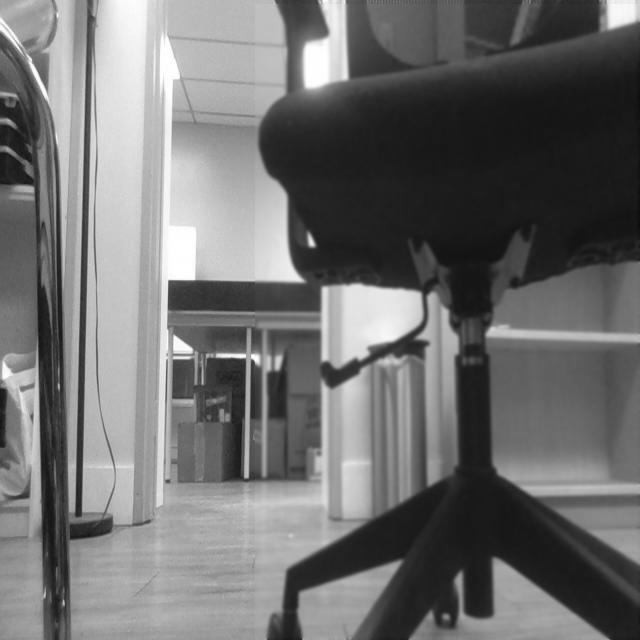chair: (255, 5, 639, 640)
